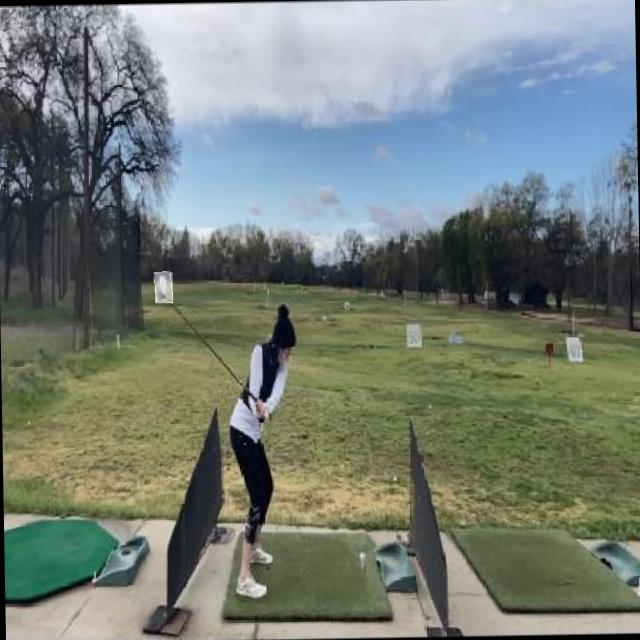club head: (154, 272, 173, 302)
